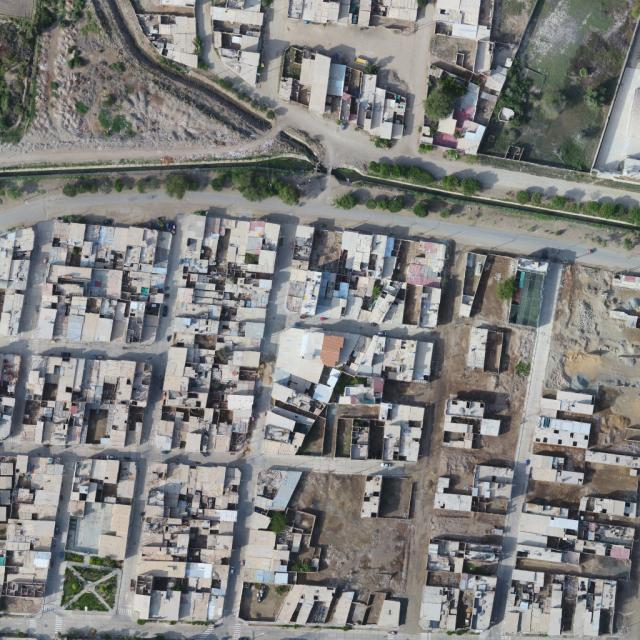building: (149, 210, 281, 467), (262, 326, 434, 467), (37, 216, 172, 353), (133, 459, 242, 626), (285, 224, 448, 330), (19, 354, 152, 452), (1, 455, 64, 613), (514, 501, 638, 574), (62, 454, 138, 560), (273, 44, 370, 123), (342, 71, 419, 147), (209, 0, 264, 85), (504, 569, 565, 635), (137, 0, 196, 68), (0, 228, 34, 335), (275, 582, 335, 627), (255, 467, 301, 514), (572, 577, 605, 638), (533, 415, 591, 448), (528, 454, 586, 486), (451, 80, 481, 128), (579, 495, 638, 519), (328, 587, 359, 630), (539, 397, 594, 420), (360, 473, 383, 520), (458, 120, 487, 157), (584, 449, 640, 468), (555, 390, 595, 414), (484, 63, 511, 94), (35, 307, 56, 341), (474, 40, 495, 74), (244, 511, 272, 534), (378, 599, 400, 628), (352, 0, 373, 27), (248, 528, 277, 547), (244, 568, 275, 583), (600, 580, 616, 609), (438, 114, 458, 134), (246, 544, 274, 558), (245, 556, 274, 569), (557, 470, 583, 484), (452, 24, 477, 38), (497, 106, 516, 123), (460, 120, 479, 136), (476, 24, 492, 43), (398, 7, 417, 22), (289, 532, 303, 552), (427, 65, 444, 80), (479, 91, 498, 103), (608, 310, 628, 320), (273, 572, 289, 584), (274, 550, 290, 561), (626, 315, 638, 328), (149, 462, 160, 474), (420, 632, 432, 640), (278, 564, 287, 572), (630, 469, 638, 476), (499, 635, 511, 639), (456, 634, 462, 640), (435, 635, 440, 639), (448, 635, 452, 639), (388, 632, 390, 639), (471, 636, 475, 639)
dryland: (278, 435, 441, 634), (294, 472, 415, 597), (377, 361, 465, 460), (400, 482, 438, 631), (525, 467, 640, 511), (515, 547, 632, 581), (429, 508, 506, 545), (437, 447, 478, 492), (531, 443, 587, 472), (561, 576, 578, 632)
greenland: (478, 0, 640, 186), (417, 71, 469, 127), (228, 168, 303, 206), (367, 157, 437, 188), (164, 173, 199, 201), (406, 165, 436, 185), (333, 191, 359, 214), (411, 199, 433, 221), (461, 177, 481, 195), (441, 175, 460, 192), (386, 197, 404, 213), (209, 177, 225, 193), (364, 197, 378, 211), (377, 199, 388, 209)
metalled_road: (257, 218, 302, 389), (180, 450, 414, 477), (223, 463, 260, 619), (117, 459, 153, 615), (245, 453, 417, 477), (492, 627, 620, 639), (248, 413, 264, 456), (257, 389, 273, 412)
unmetalled_road: (251, 0, 436, 165), (266, 99, 395, 184), (570, 183, 640, 206)
